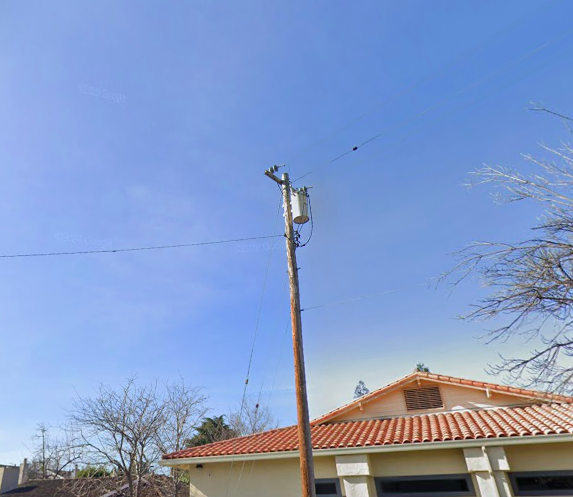utility_pole: (256, 161, 317, 238)
